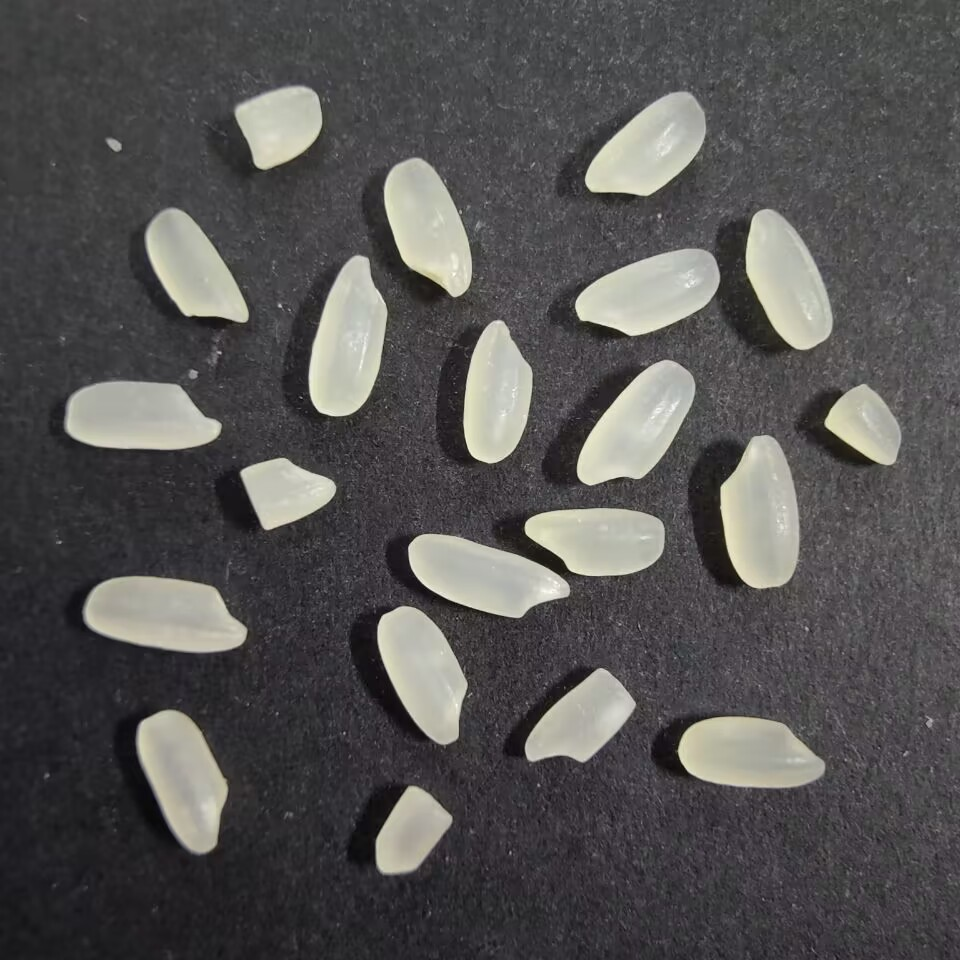broken: (521, 664, 640, 769), (370, 778, 453, 883), (230, 83, 324, 174), (238, 453, 340, 531), (822, 384, 904, 466)
rice: (575, 358, 699, 491), (404, 529, 577, 622), (134, 705, 231, 858), (579, 87, 710, 198), (568, 243, 721, 337), (712, 434, 803, 592), (375, 603, 472, 751), (304, 252, 389, 420), (79, 573, 250, 655), (742, 205, 836, 352), (143, 202, 251, 327), (58, 377, 225, 457), (382, 156, 473, 299), (676, 713, 831, 793), (459, 314, 540, 467), (519, 504, 670, 581)
